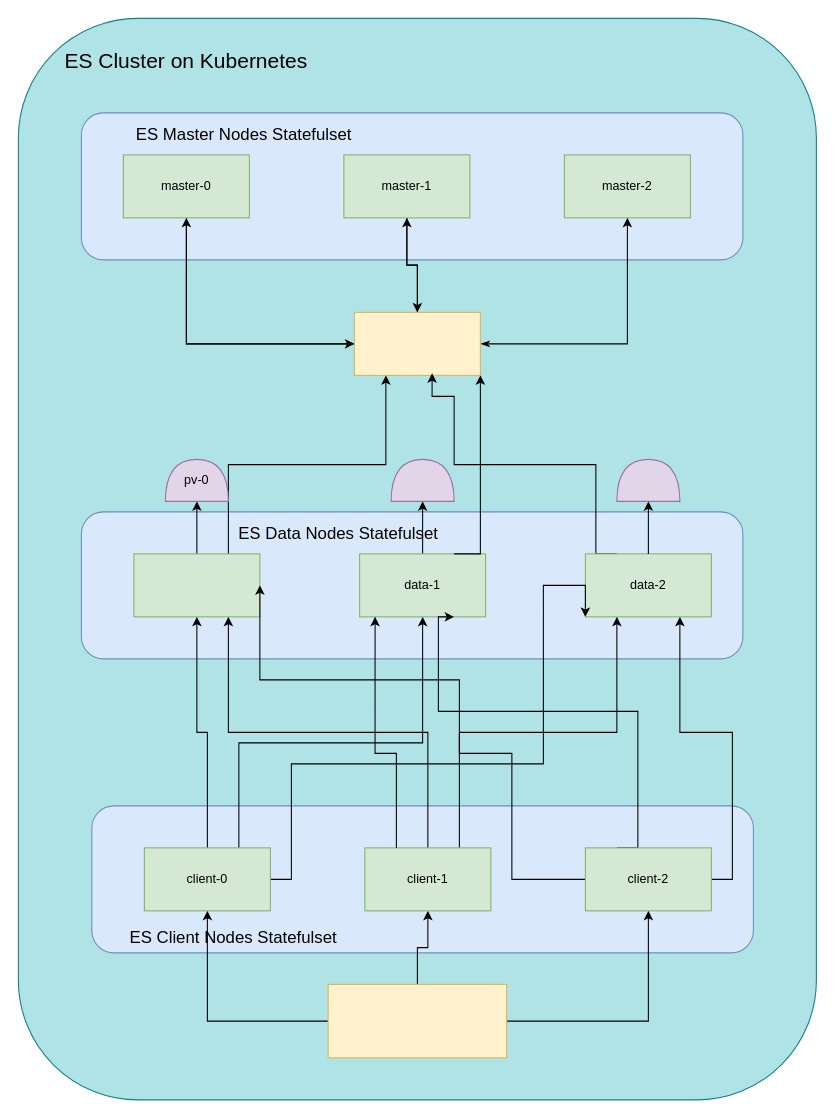
Image size: 835x1118. Some labels were removed from this diagram. The shapes that lost their labels are listed below. From the top down, each one's box as (x1, y1, x2, y2) in pixels, then its label:
(353, 311, 480, 375): Headless Service
(390, 458, 454, 501): pv-1
(616, 458, 680, 501): pv-2
(133, 553, 260, 617): data-0
(327, 983, 507, 1058): Load Balancer Service
